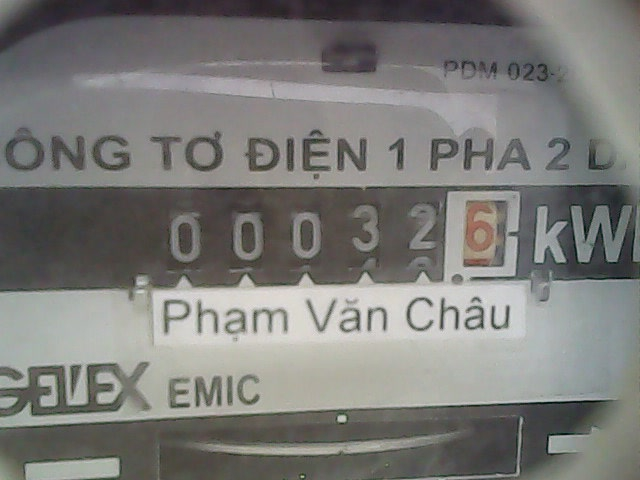phy_plate: (149, 185, 530, 285)
